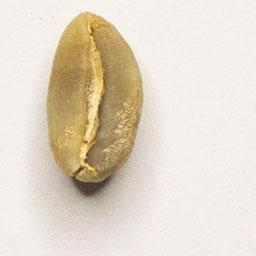longberry: (43, 8, 147, 187)
